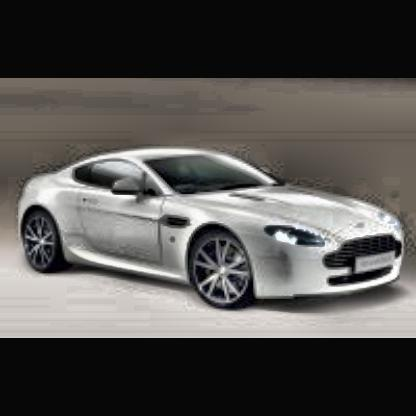Aston Martin V8 Vantage Coupe 2012: (18, 148, 406, 326)
